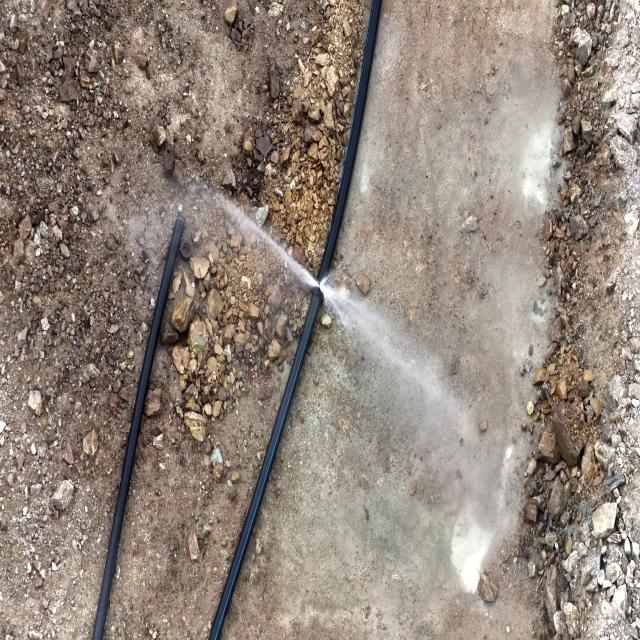leak: (210, 186, 365, 328)
